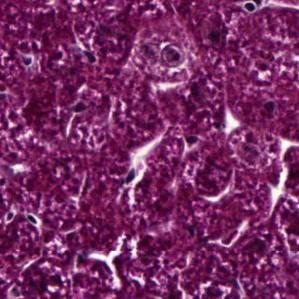inflammation: (234, 232, 271, 263), (154, 39, 190, 66)
